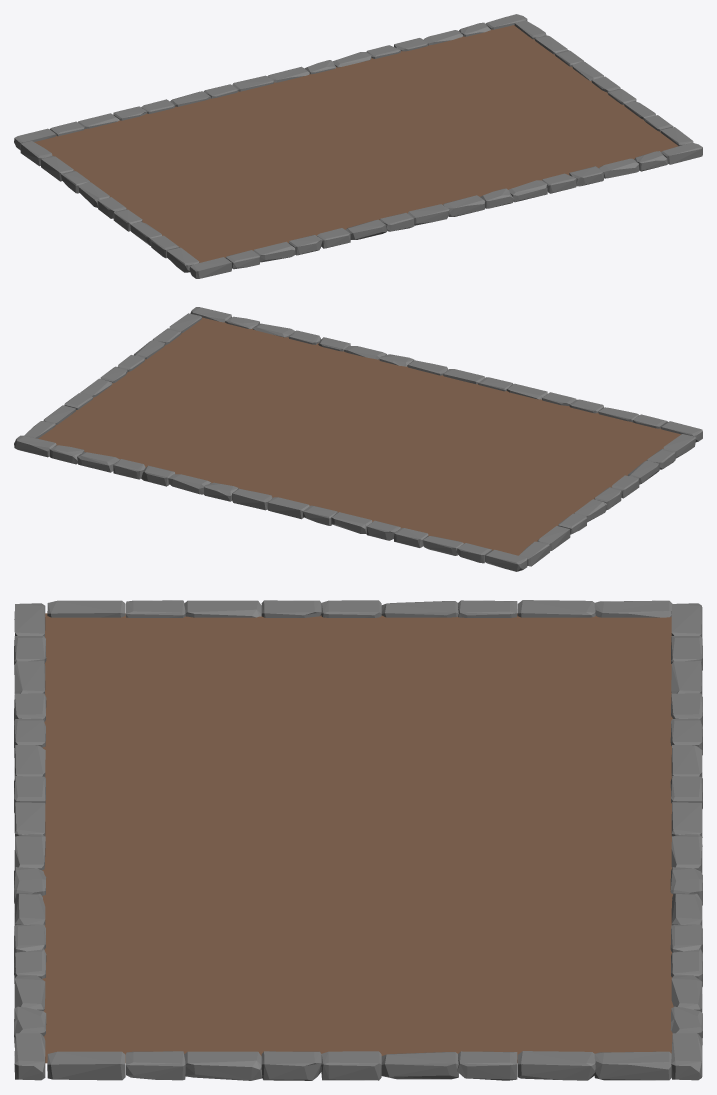
The model's file is SM_sidewalk_02.fbx.
The picture shows the model from 3 angles, top to bottom: view 1: azimuth 30°, elevation 25°; view 2: azimuth 150°, elevation 25°; view 3: azimuth 270°, elevation 25°; orthographic projection. The views are drawn at different scales.
Visible parts, largest first — view 1: Object32456; view 2: Object32456; view 3: Object32456.
Boxes of the visible parts, <box> form: Object32456: <box>14,14,702,278</box>; Object32456: <box>14,307,702,571</box>; Object32456: <box>14,600,702,1080</box>.
Size of the model in its own units: 565 by 9.86 by 354.
